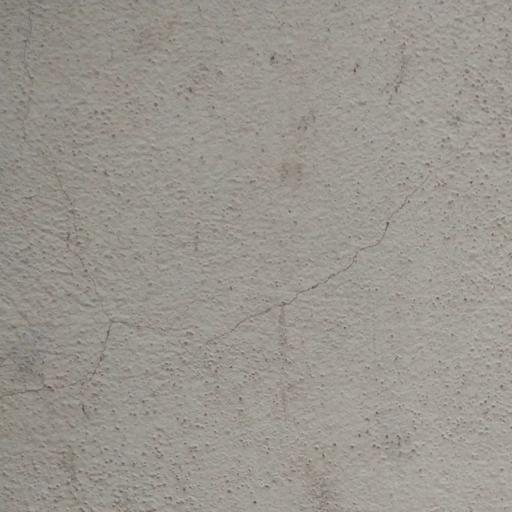minor_crack: (5, 0, 437, 383)
